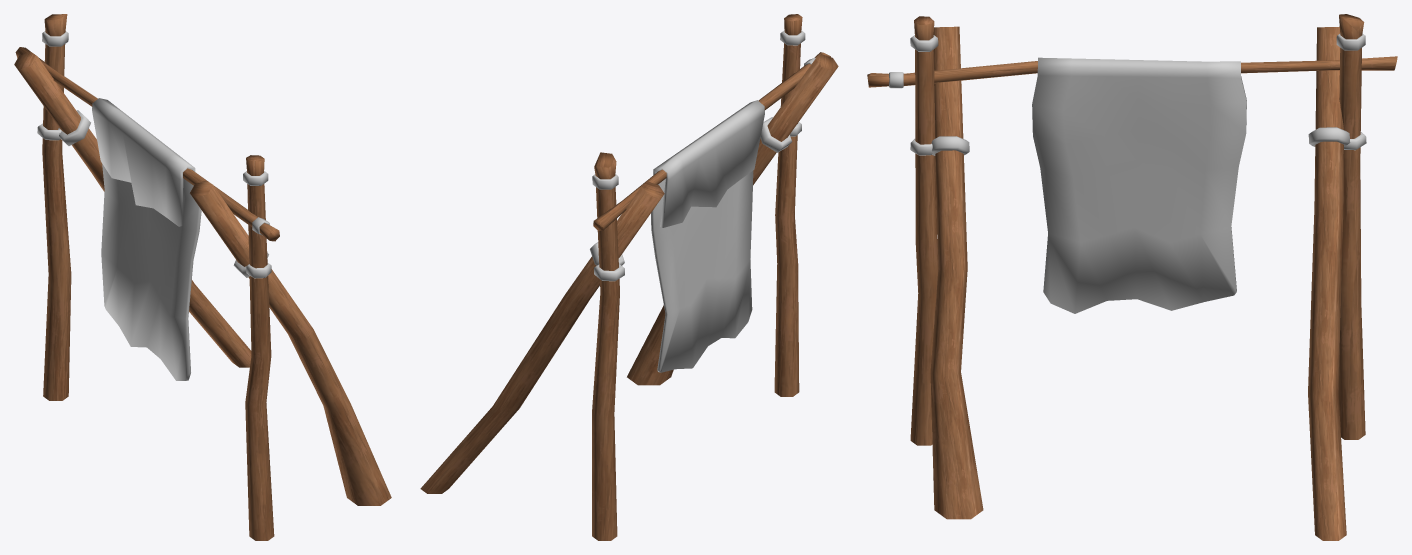
The model's file is Skin on bal.fbx.
3 renders of one model, left to right at view 1: azimuth 30°, elevation 25°; view 2: azimuth 150°, elevation 25°; view 3: azimuth 270°, elevation 25°, orthographic. The views are drawn at different scales.
Visible parts, largest first — view 1: Skin on bal; view 2: Skin on bal; view 3: Skin on bal.
Boxes of the visible parts, x1,y1,x2,y2 form: Skin on bal: [14, 14, 391, 540]; Skin on bal: [420, 14, 838, 540]; Skin on bal: [867, 14, 1397, 540].
Size of the model in its own units: 1.06 by 1.63 by 1.85.
